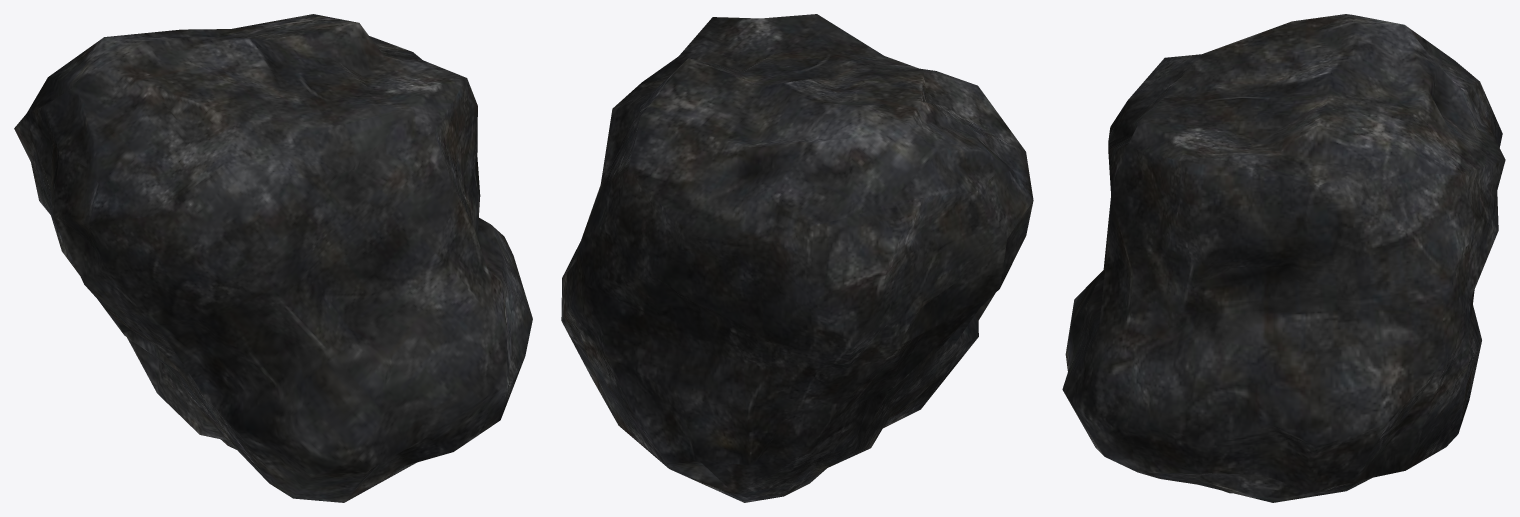
The model's file is rock_04.dae.
The picture shows the model from 3 angles, left to right: view 1: azimuth 30°, elevation 25°; view 2: azimuth 150°, elevation 25°; view 3: azimuth 270°, elevation 25°; orthographic projection. The views are drawn at different scales.
Parts seen in each view (by area): view 1: RoadKillOut; view 2: RoadKillOut; view 3: RoadKillOut.
Part boxes in pixels (x1,y1,x2,y2): RoadKillOut: (14,14,532,502); RoadKillOut: (561,14,1033,502); RoadKillOut: (1062,14,1505,502).
Bounding box in the file's own units: 1.02 × 0.9222 × 0.9243.
Materials: 1 (1 with a texture image).
